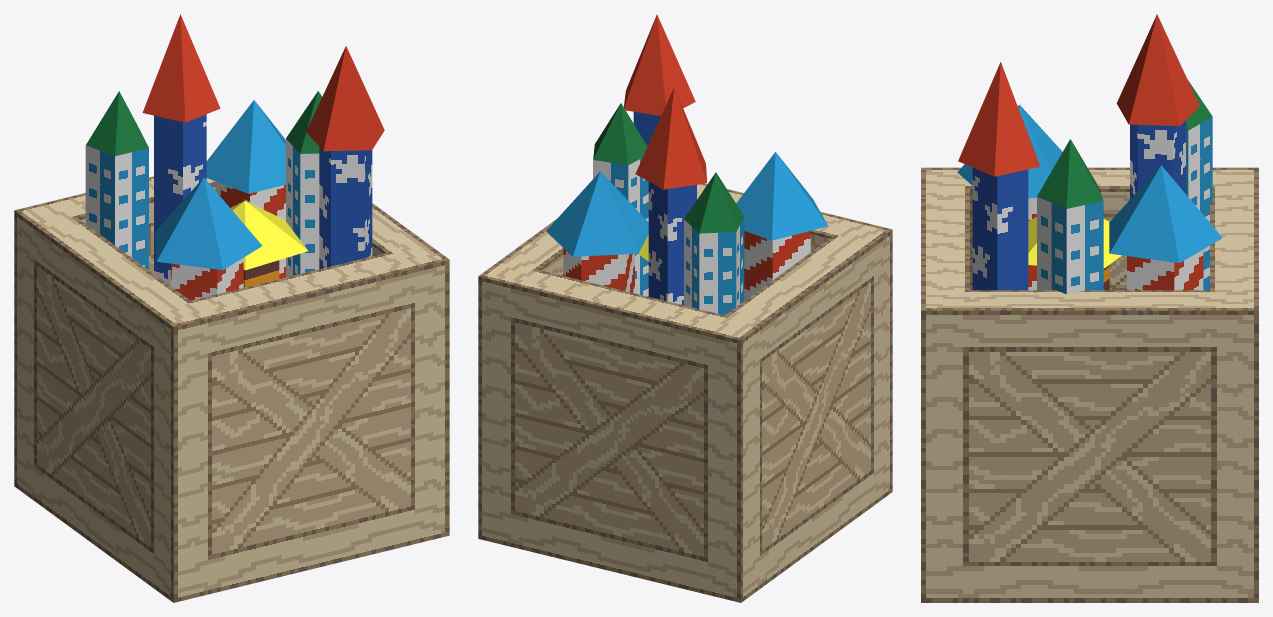
File: box_o_rockets.glb
3 views of the same model, side by side, from view 1: azimuth 30°, elevation 25°; view 2: azimuth 150°, elevation 25°; view 3: azimuth 270°, elevation 25° (orthographic). The views are drawn at different scales.
Visible parts, largest first — view 1: Cube, ThinRocket.003, ThinRocket.004, FlangelessRocket.003, ThickRocket.005, ThickRocket.003, FlangelessRocket.004, ThickRocket.004; view 2: Cube, ThinRocket.004, ThickRocket.003, ThickRocket.005, FlangelessRocket.003, ThinRocket.003, FlangelessRocket.004; view 3: Cube, ThinRocket.003, ThickRocket.003, ThinRocket.004, FlangelessRocket.004, FlangelessRocket.003, ThickRocket.005, ThickRocket.004.
Part boxes in pixels (left/top/right/bottom): Cube: left=14, top=176, right=449, bottom=602; ThinRocket.003: left=306, top=46, right=384, bottom=269; ThinRocket.004: left=142, top=14, right=220, bottom=285; FlangelessRocket.003: left=85, top=91, right=148, bottom=269; ThickRocket.005: left=155, top=177, right=262, bottom=300; ThickRocket.003: left=206, top=100, right=285, bottom=278; FlangelessRocket.004: left=286, top=91, right=321, bottom=277; ThickRocket.004: left=230, top=201, right=307, bottom=287; Cube: left=478, top=183, right=892, bottom=602; ThinRocket.004: left=635, top=87, right=707, bottom=305; ThickRocket.003: left=546, top=171, right=648, bottom=293; ThickRocket.005: left=736, top=152, right=827, bottom=300; FlangelessRocket.003: left=684, top=172, right=744, bottom=315; ThinRocket.003: left=624, top=14, right=695, bottom=145; FlangelessRocket.004: left=593, top=103, right=648, bottom=296; Cube: left=921, top=167, right=1258, bottom=602; ThinRocket.003: left=958, top=62, right=1040, bottom=290; ThickRocket.003: left=1109, top=165, right=1222, bottom=290; ThinRocket.004: left=1116, top=14, right=1199, bottom=199; FlangelessRocket.004: left=1037, top=139, right=1103, bottom=294; FlangelessRocket.003: left=1186, top=79, right=1212, bottom=290; ThickRocket.005: left=957, top=104, right=1062, bottom=290; ThickRocket.004: left=1028, top=217, right=1121, bottom=290.
Size of the model in its own units: 1.17 by 1.93 by 1.17.
1 material, 1 textured.
